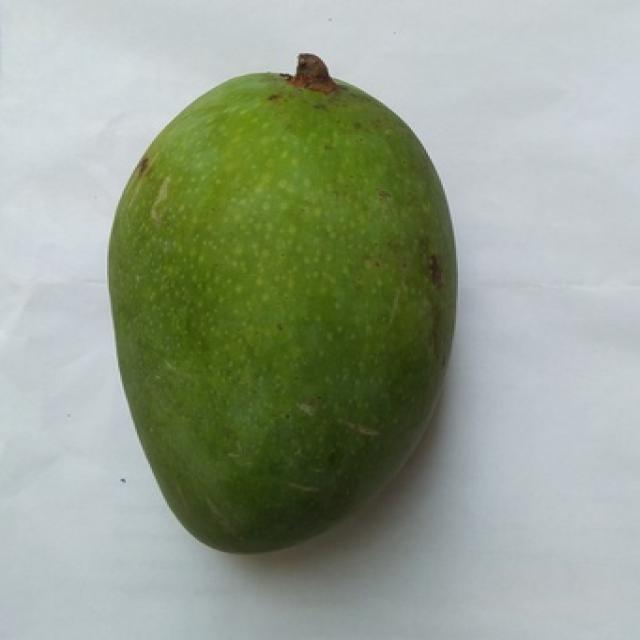Mango: (109, 62, 450, 551)
